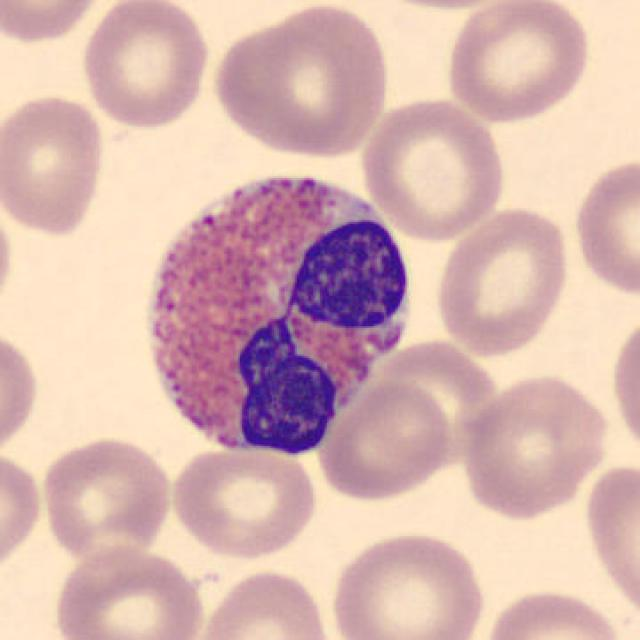Eosinophil: (128, 148, 423, 469)
RBC: (208, 2, 395, 160), (457, 368, 613, 522), (430, 202, 574, 360), (358, 94, 510, 242), (441, 0, 595, 125), (165, 442, 320, 562), (327, 527, 489, 640), (37, 432, 176, 562), (313, 378, 457, 502), (76, 0, 213, 130), (0, 90, 108, 240), (50, 541, 208, 640), (190, 566, 336, 640), (569, 152, 638, 300), (580, 457, 638, 626), (478, 585, 628, 640), (0, 446, 46, 578), (0, 324, 41, 462), (606, 306, 640, 464), (0, 0, 110, 46), (357, 0, 528, 14), (0, 192, 18, 324)
